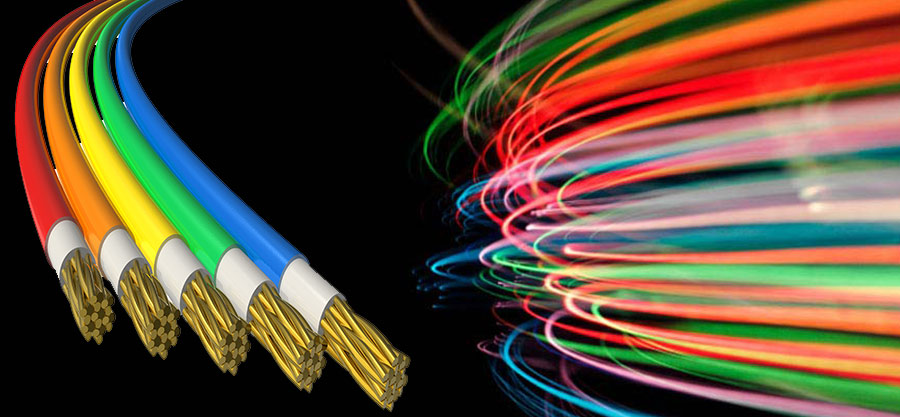Nonrec_Tangler: (9, 11, 449, 408)
